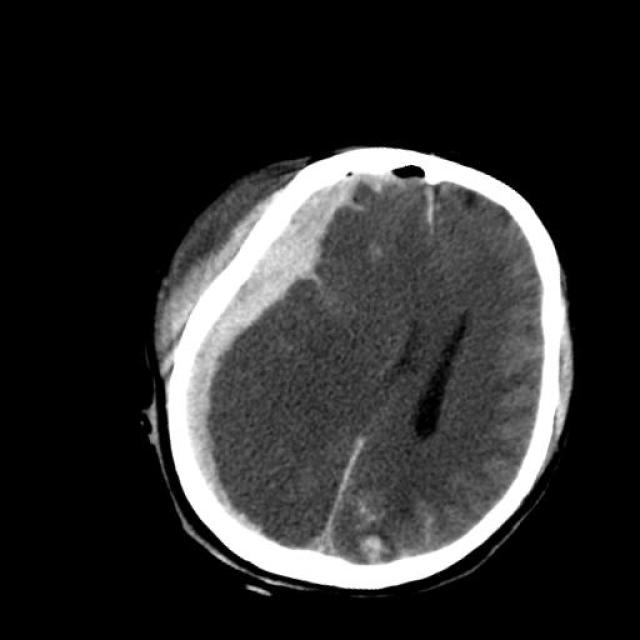Subarachnoid: (401, 480, 462, 562)
Subdural: (63, 110, 399, 558)
